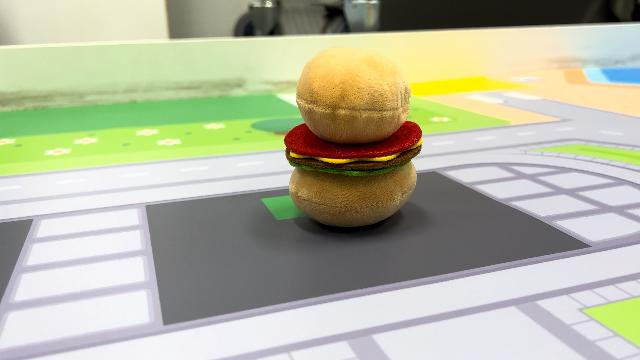burger: (280, 44, 426, 230)
